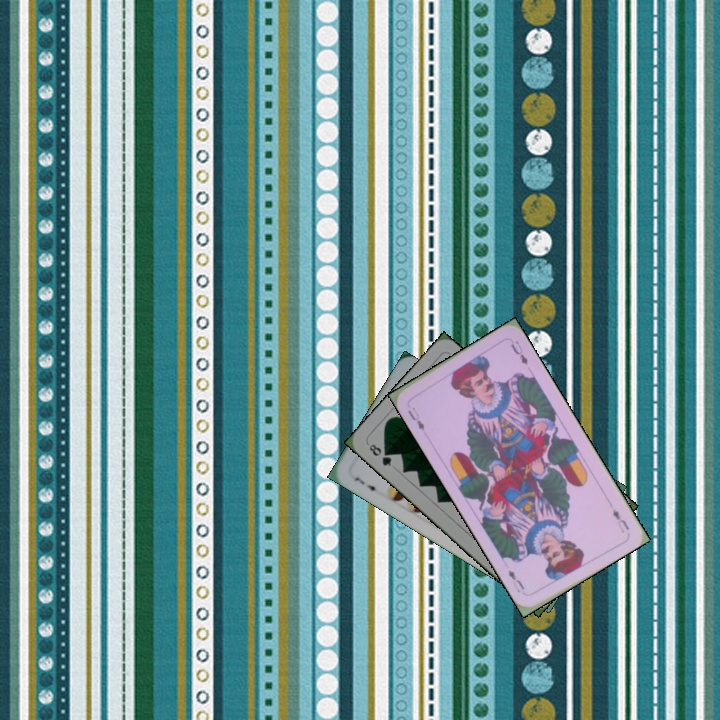E7: (351, 473, 382, 497)
EU: (404, 403, 427, 433), (609, 505, 632, 535)
G8: (364, 439, 394, 469)
